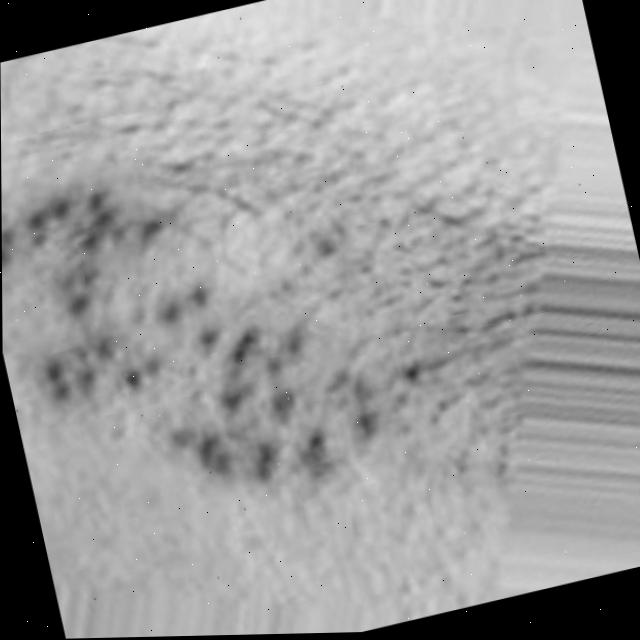Shingles: (1, 107, 393, 542)
